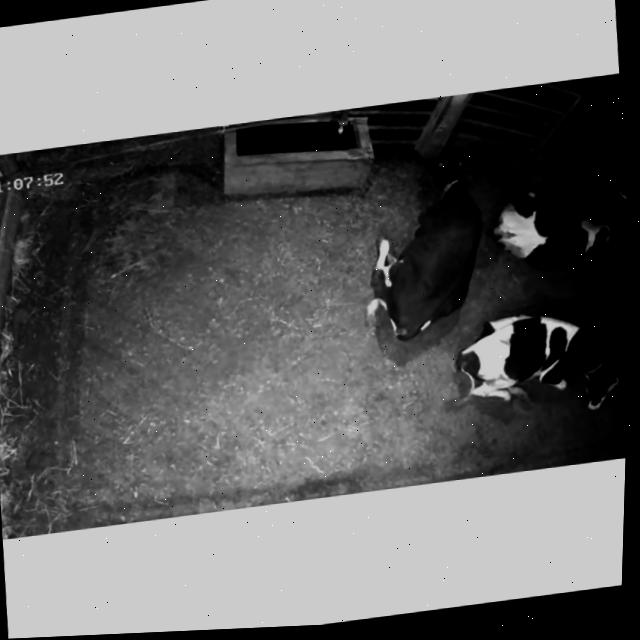lay: (342, 141, 496, 350), (436, 290, 631, 440), (481, 156, 633, 283)
